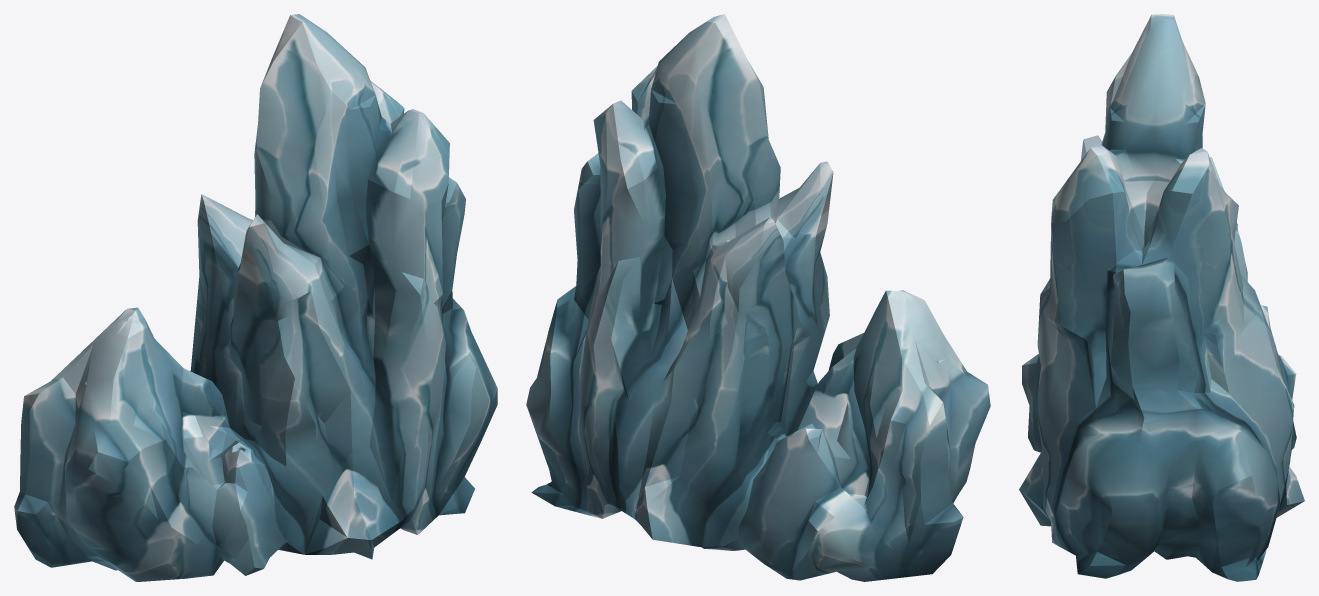
The model's file is ice-formation.glb.
3 renders of one model, left to right at view 1: azimuth 30°, elevation 25°; view 2: azimuth 150°, elevation 25°; view 3: azimuth 270°, elevation 25°, orthographic. The views are drawn at different scales.
Parts seen in each view (by area): view 1: Object_2; view 2: Object_2; view 3: Object_2.
Part boxes in pixels (x1=…): Object_2: x1=14, y1=14, x2=497, y2=581; Object_2: x1=526, y1=14, x2=990, y2=581; Object_2: x1=1019, y1=14, x2=1304, y2=581.
Size of the model in its own units: 0.9113 by 0.9978 by 0.5079.
1 material, 1 textured.
